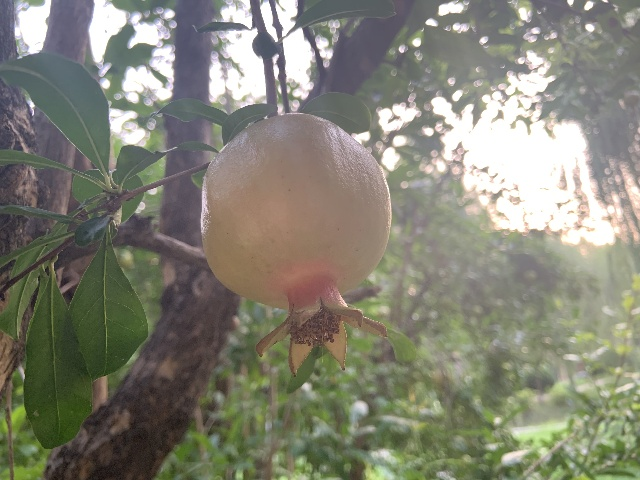mid-growth: (200, 113, 393, 380)
